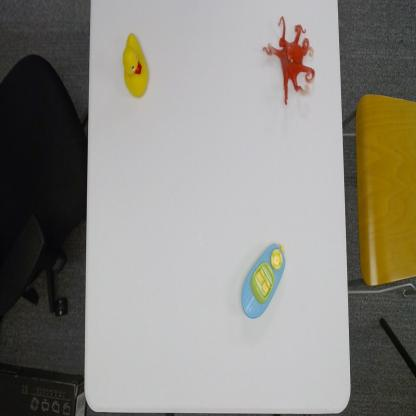Boat: (241, 238, 287, 322)
Duck: (122, 29, 150, 100)
Octopus: (264, 13, 318, 106)
